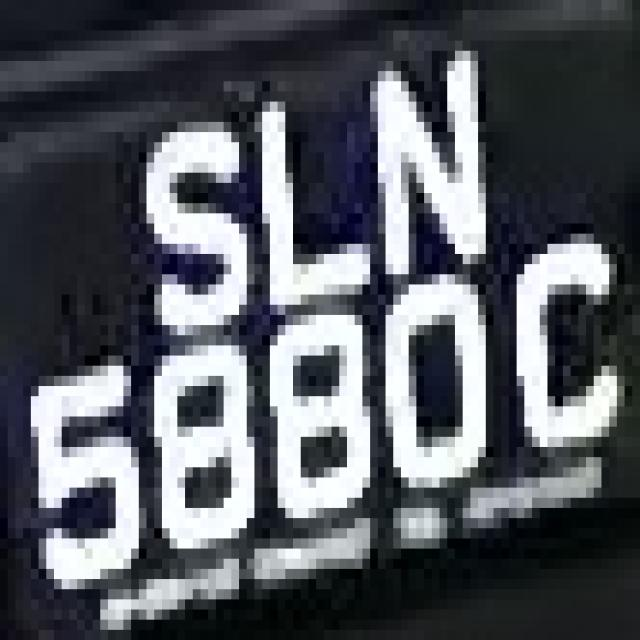0: (386, 254, 494, 518)
5: (15, 366, 146, 610)
8: (131, 305, 255, 569), (247, 315, 370, 559)
C: (509, 223, 617, 488)
L: (224, 81, 393, 305)
N: (339, 71, 509, 295)
S: (131, 122, 262, 345)
